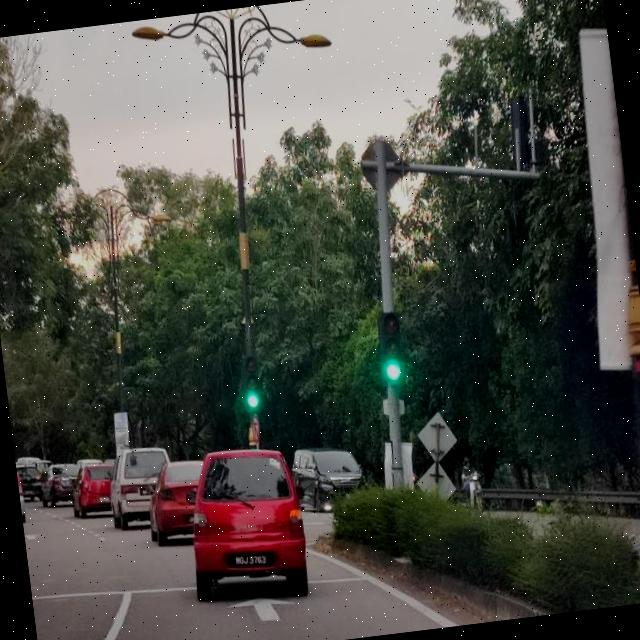green_light: (374, 310, 406, 386), (238, 354, 262, 411)
